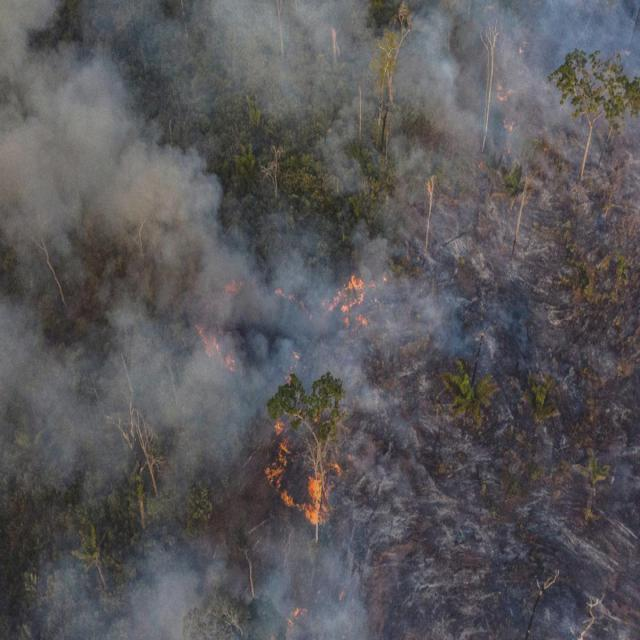Fire: (277, 474, 333, 522), (325, 272, 368, 328), (192, 328, 238, 373), (271, 286, 311, 320), (268, 424, 286, 486), (286, 604, 307, 630), (496, 80, 514, 102), (226, 276, 243, 296), (504, 115, 518, 134), (331, 461, 344, 474)
